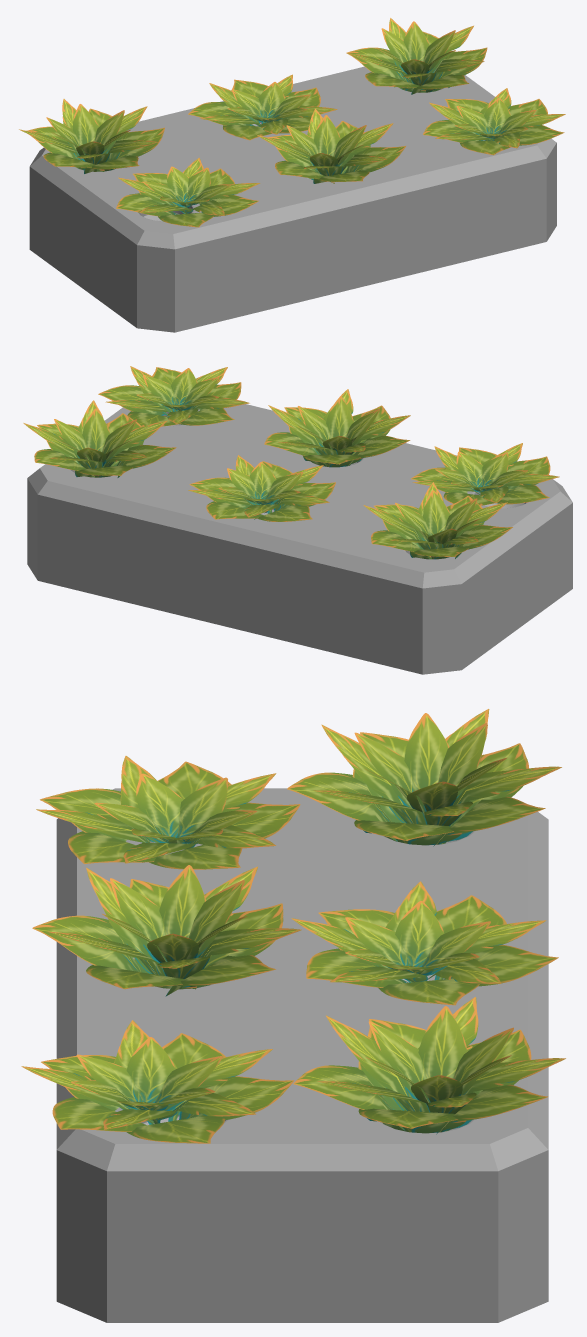
Rendered from HorizontalPonicsTop.fbx.
The picture shows the model from 3 angles, top to bottom: view 1: azimuth 30°, elevation 25°; view 2: azimuth 150°, elevation 25°; view 3: azimuth 270°, elevation 25°; orthographic projection. The views are drawn at different scales.
Visible parts, largest first — view 1: HorizontalPonics, Plant1, Plant4, Plant5, Plant3, Plant2, Plant6; view 2: HorizontalPonics, Plant5, Plant1, Plant4, Plant6, Plant2, Plant3; view 3: HorizontalPonics, Plant4, Plant5, Plant1, Plant2, Plant6, Plant3.
Boxes of the visible parts, bbox=[...] form: HorizontalPonics: bbox=[29, 66, 556, 332]; Plant1: bbox=[346, 18, 487, 94]; Plant4: bbox=[19, 99, 164, 173]; Plant5: bbox=[256, 108, 405, 183]; Plant3: bbox=[116, 157, 260, 227]; Plant2: bbox=[423, 88, 565, 155]; Plant6: bbox=[188, 74, 337, 140]; HorizontalPonics: bbox=[27, 404, 572, 674]; Plant5: bbox=[264, 389, 410, 467]; Plant1: bbox=[23, 400, 176, 477]; Plant4: bbox=[363, 482, 512, 559]; Plant6: bbox=[188, 455, 335, 521]; Plant2: bbox=[98, 366, 249, 426]; Plant3: bbox=[411, 443, 559, 505]; HorizontalPonics: bbox=[56, 788, 548, 1322]; Plant4: bbox=[287, 709, 561, 846]; Plant5: bbox=[32, 865, 301, 996]; Plant1: bbox=[293, 997, 565, 1134]; Plant2: bbox=[21, 1020, 294, 1143]; Plant6: bbox=[291, 881, 558, 1005]; Plant3: bbox=[36, 756, 300, 869].
Bounding box in the file's own units: 74.6 × 20.01 × 42.19.
